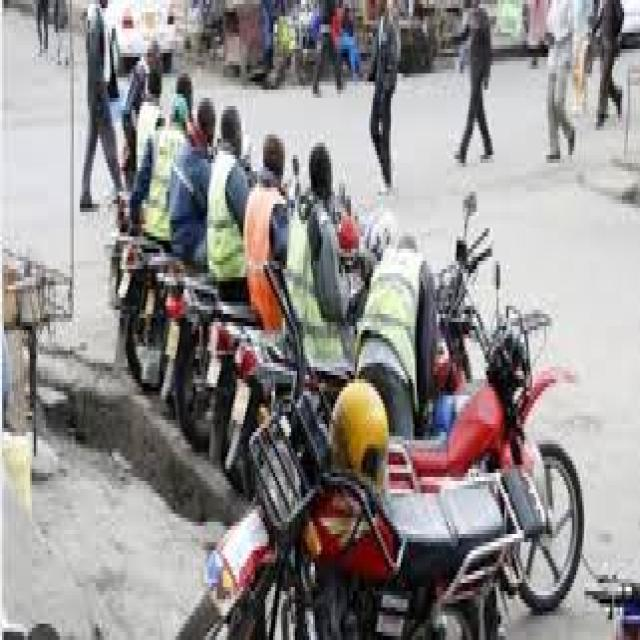bodaboda: (149, 224, 550, 640)
